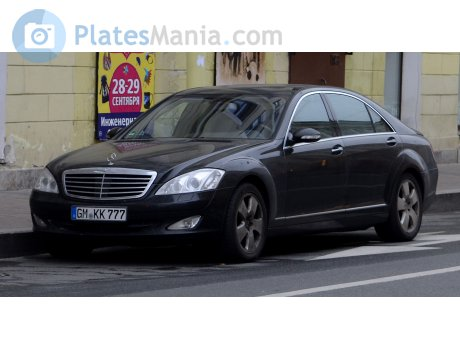License Plates: (79, 206, 126, 217)
